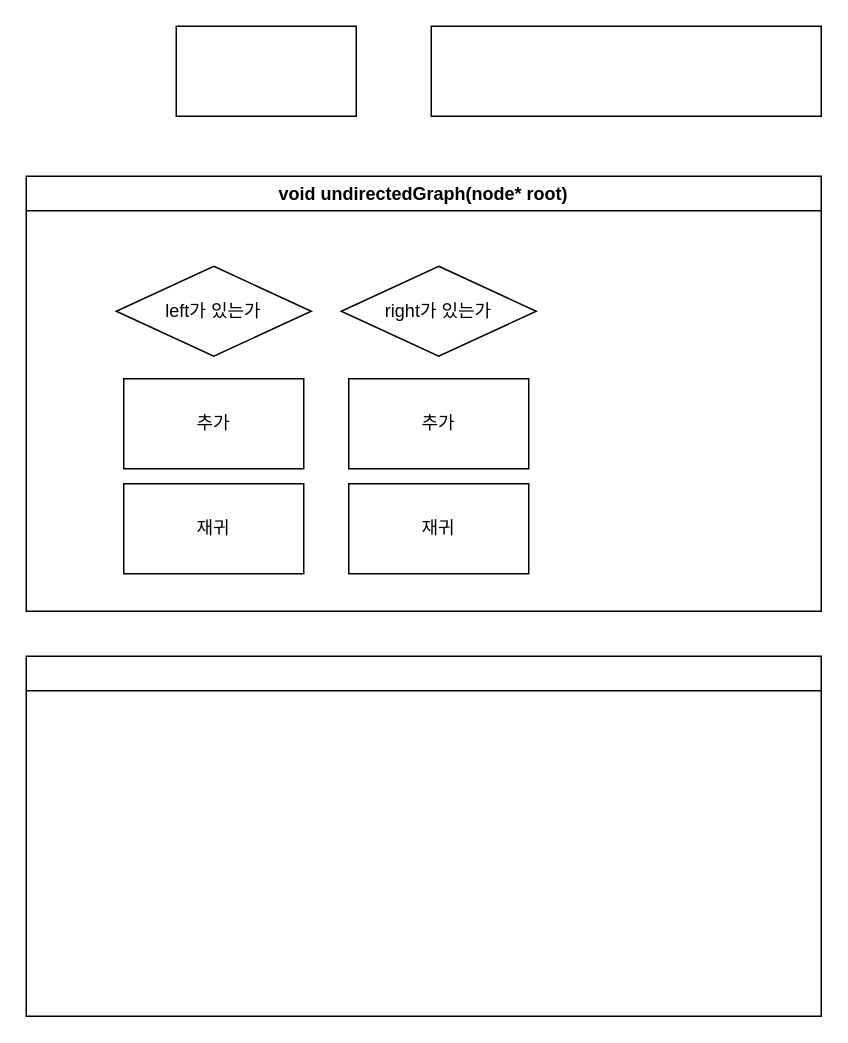
The diagram is 848 pixels wide and 1043 high, and some of its shapes have lost their labels. The shapes that lost their labels are listed below. From the top down, each one's centre as x and y in pixels, then its label:
At pixel 265 70: "무지향성 그래프 만든다".
At pixel 625 70: "unordered_map<int, vector<int, int>> undirectedMap".
At pixel 423 835: "BFS".
